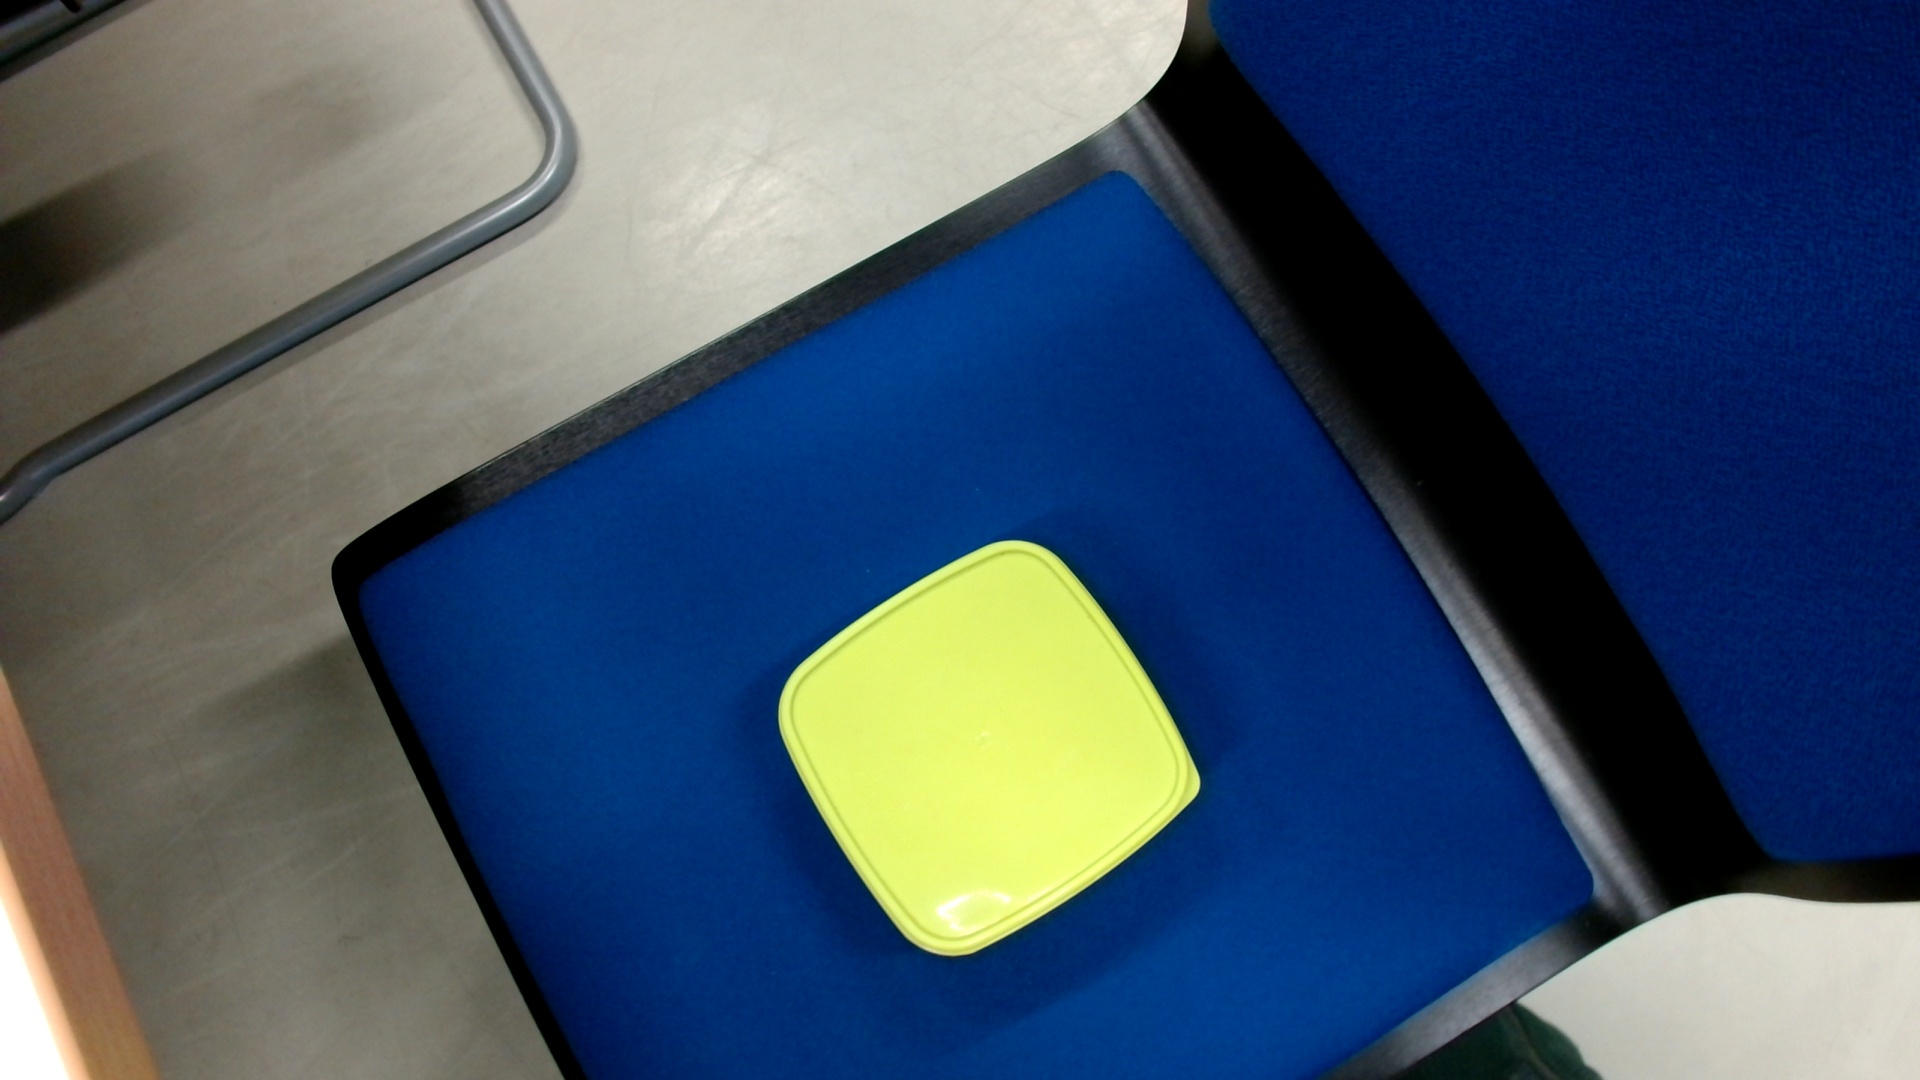Box: (764, 530, 1212, 967)
